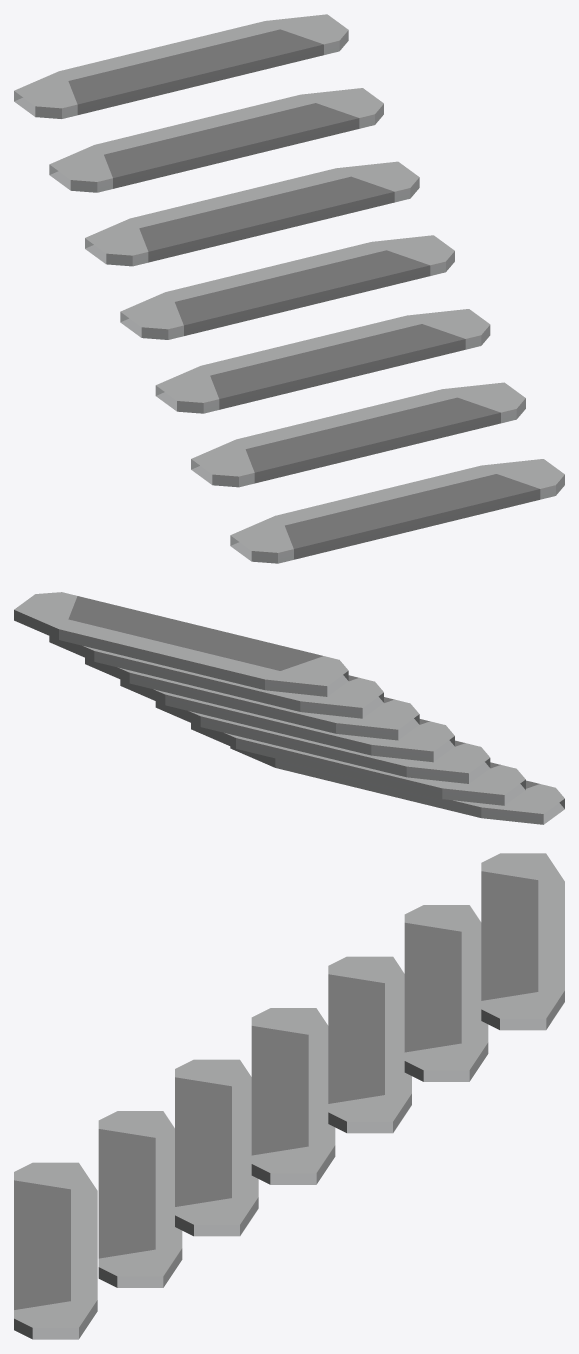
Rendered from Stair_type_A_002.fbx.
3 views of the same model, one above another, from view 1: azimuth 30°, elevation 25°; view 2: azimuth 150°, elevation 25°; view 3: azimuth 270°, elevation 25° (orthographic). The views are drawn at different scales.
Parts seen in each view (by area): view 1: Stair_type_A_002; view 2: Stair_type_A_002; view 3: Stair_type_A_002.
Part boxes in pixels (bbox=[...]): Stair_type_A_002: bbox=[14, 14, 564, 563]; Stair_type_A_002: bbox=[14, 592, 564, 824]; Stair_type_A_002: bbox=[14, 853, 564, 1339].
Bounding box in the file's own units: 152 × 214 × 138.
